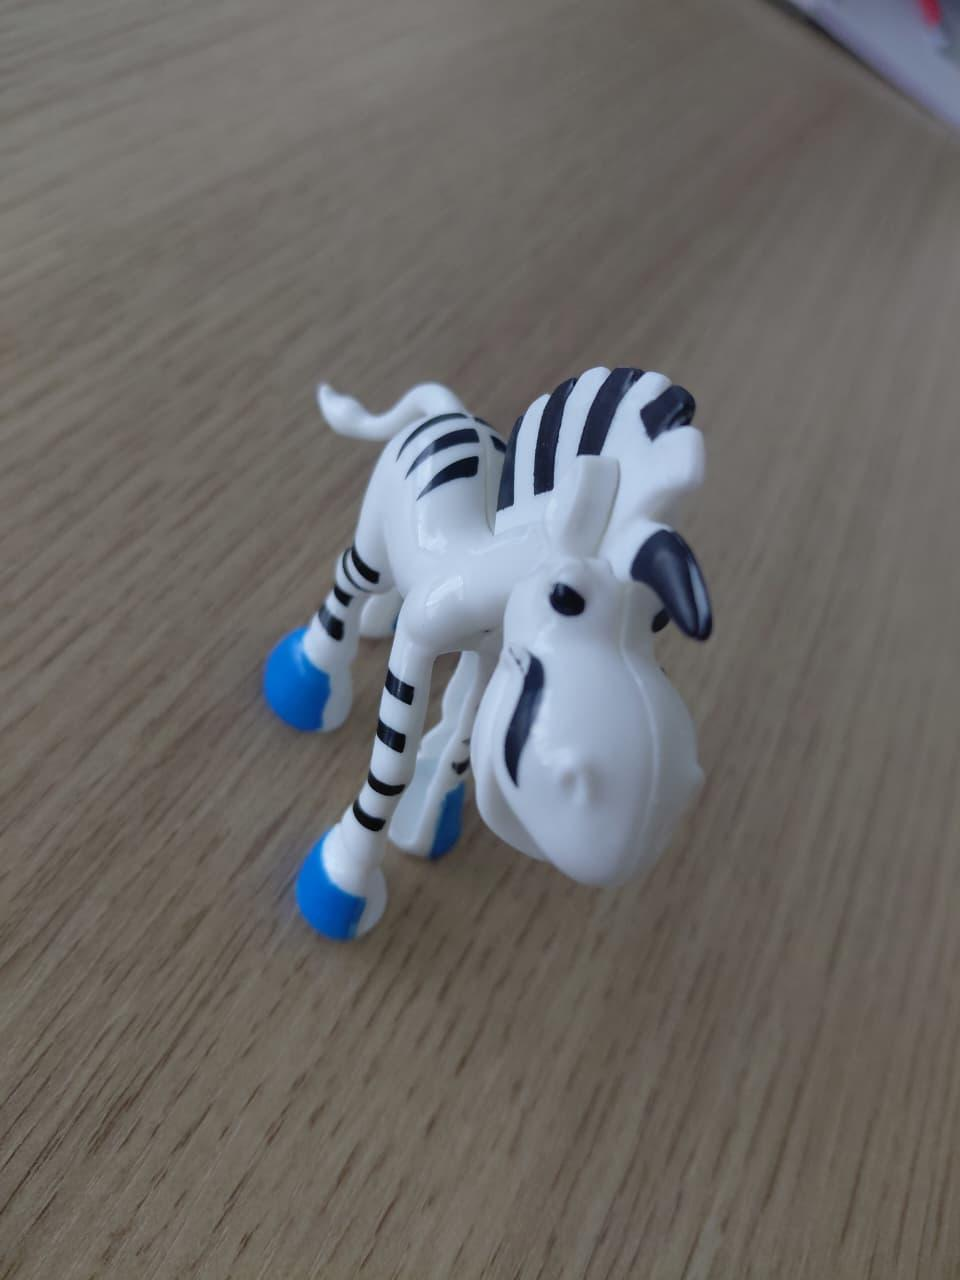zebra: (177, 268, 836, 1049)
